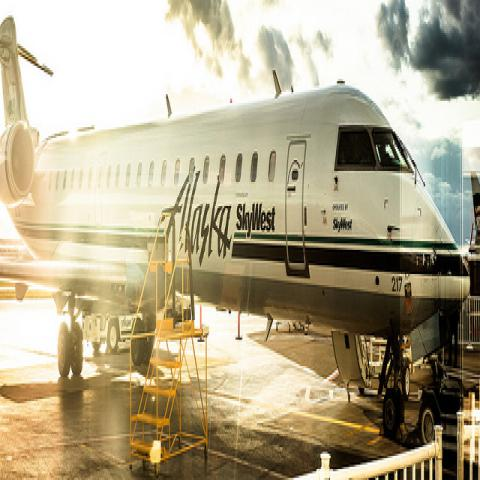truck: (82, 310, 143, 355)
